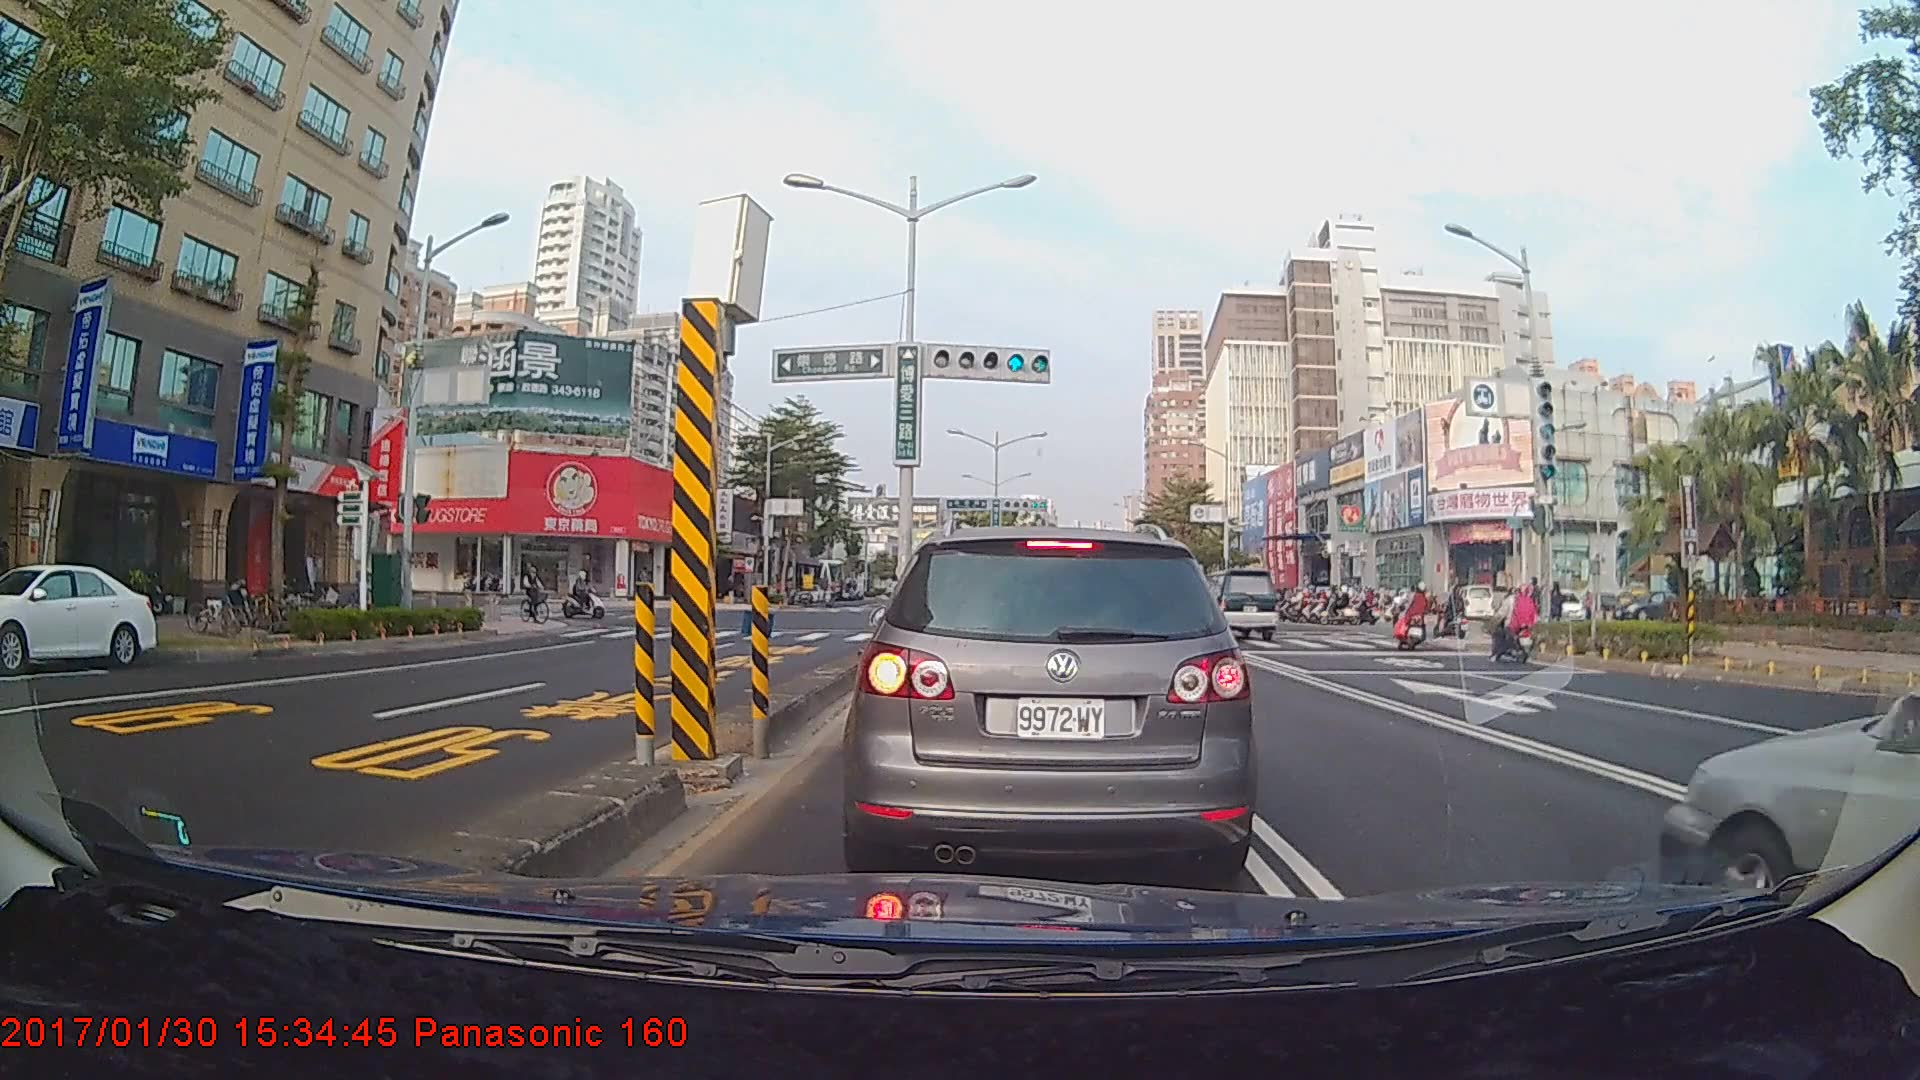pedestrian: (1542, 579, 1569, 637)
rider: (1480, 582, 1541, 666), (1389, 581, 1436, 655), (518, 559, 561, 629), (564, 568, 615, 625), (1436, 582, 1473, 646)
vehicle: (853, 525, 1249, 881), (0, 561, 159, 671), (1188, 566, 1279, 641)
